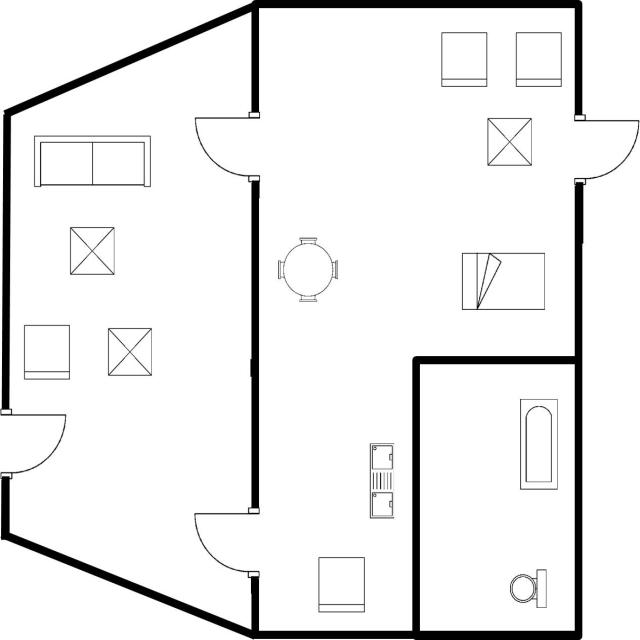bed: (454, 247, 550, 316)
coffee_table: (480, 110, 537, 172), (65, 220, 118, 280), (102, 322, 155, 379)
large_sink: (504, 564, 551, 614)
large_sofa: (29, 130, 156, 193)
round_table: (272, 230, 343, 306)
small_sofa: (435, 26, 491, 91), (510, 27, 566, 91), (313, 552, 369, 616), (20, 318, 73, 384)
tub: (514, 394, 562, 496)
twin_sink: (364, 438, 401, 522)
